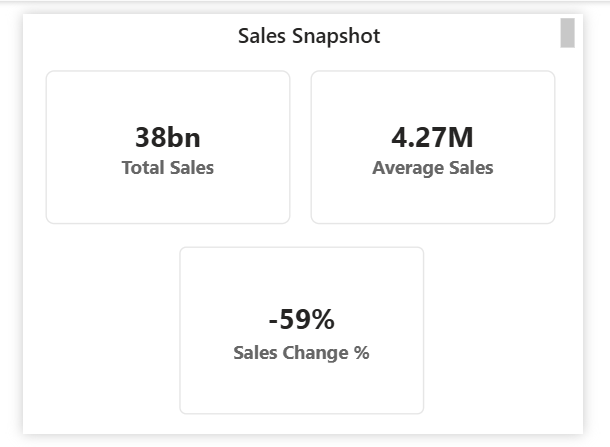

What the dashboard file says about the page in this screenshot:
{"tool":"powerbi","page":{"name":"ToolTip","canvas":[320,240],"ordinal":1},"visuals":[{"type":"cardVisual","fields":{"Data":["cleaned_data.Total Sales"]},"box":[13,32,140,88],"z":0},{"type":"cardVisual","fields":{"Data":["cleaned_data.Average Sales"]},"box":[164,32,140,88],"z":1000},{"type":"textbox","box":[0,0,320,24],"z":2000},{"type":"cardVisual","fields":{"Data":["cleaned_data.Sales Change %"]},"box":[89,133,140,96],"z":3000}]}

Visuals, with their boxes in screenshot pixels (x1, y1, x2, y2), scaled from the page's 320x240 canvas onto the 610x447 screenshot:
cardVisual - cleaned_data.Total Sales: <bbox>25, 60, 292, 224</bbox>
cardVisual - cleaned_data.Average Sales: <bbox>313, 60, 580, 224</bbox>
textbox: <bbox>0, 0, 609, 45</bbox>
cardVisual - cleaned_data.Sales Change %: <bbox>170, 248, 437, 427</bbox>
